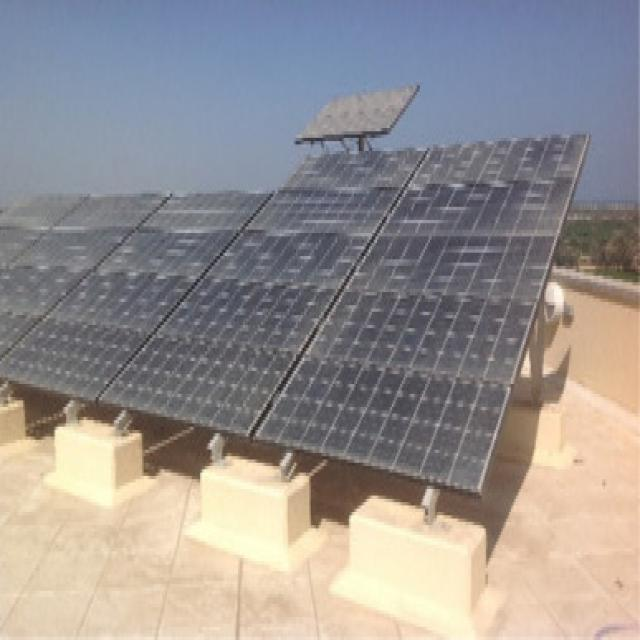dust-solar-panel: (0, 134, 590, 496), (297, 86, 419, 137)
